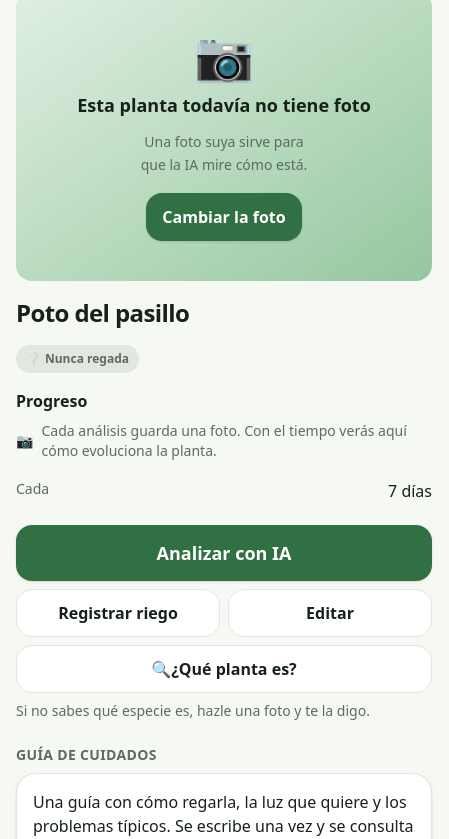
Test: <DetallePlanta> › sin clave de IA explica dónde conseguirla en vez de analizar
Click the button "Analizar con IA" at [224, 552], box [16,524,432,580]
(page scrolled)
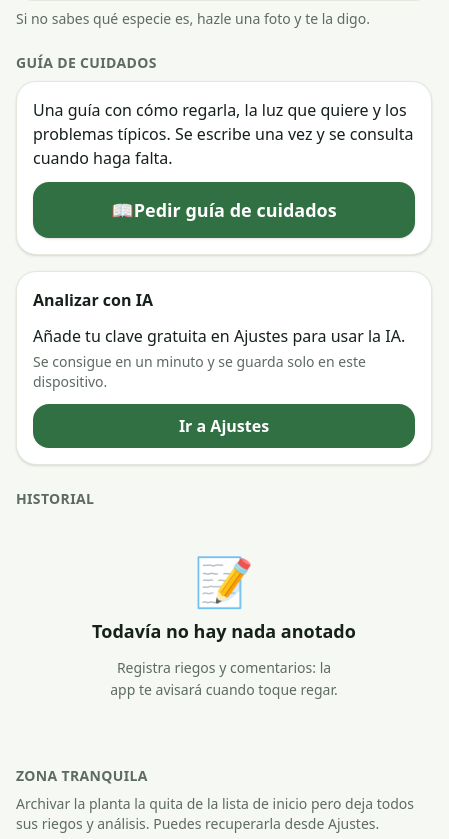
Result: the text "Añade tu clave gratuita en Ajustes para usar la IA." is shown at [33,324,415,348]
